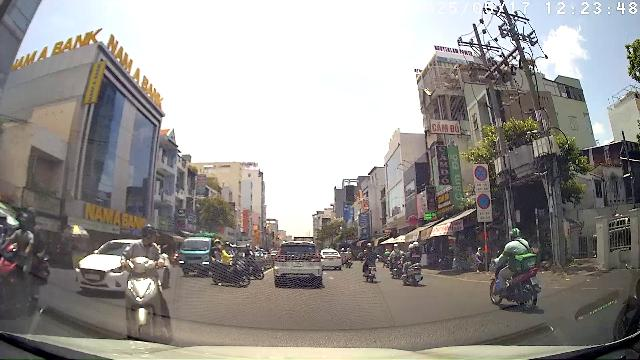130-cam-dung-va-do-xe: (474, 165, 488, 181)
131a-cam-do-xe: (477, 193, 490, 209)
